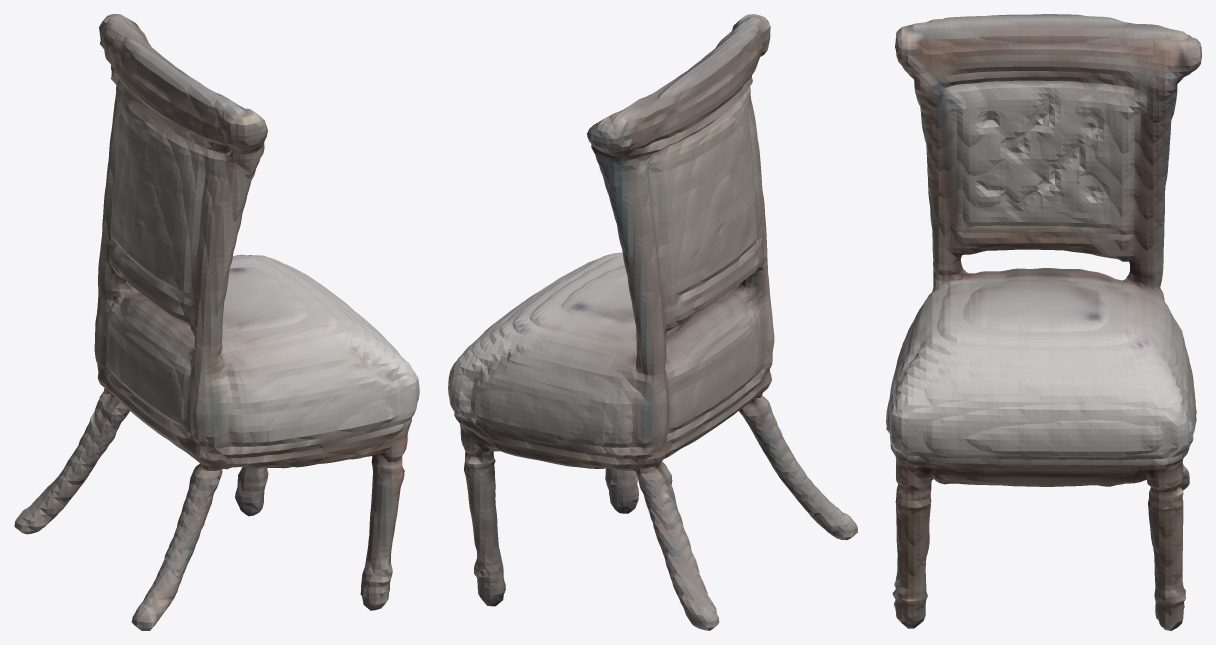
File: chair.glb
3 renders of one model, left to right at view 1: azimuth 30°, elevation 25°; view 2: azimuth 150°, elevation 25°; view 3: azimuth 270°, elevation 25°, orthographic.
Parts seen in each view (by area): view 1: geometry_0; view 2: geometry_0; view 3: geometry_0.
Boxes of the visible parts, bbox=[...] form: geometry_0: bbox=[14, 14, 419, 630]; geometry_0: bbox=[448, 14, 857, 630]; geometry_0: bbox=[886, 14, 1201, 630].
Size of the model in its own units: 0.598 by 1.06 by 0.5643.
